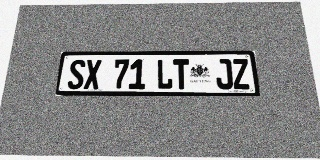1: (129, 59, 146, 89)
7: (112, 59, 129, 89)
J: (215, 59, 233, 89)
L: (157, 59, 173, 89)
S: (67, 60, 86, 89)
T: (173, 59, 190, 89)
X: (83, 59, 102, 89)
Z: (231, 59, 251, 89)
